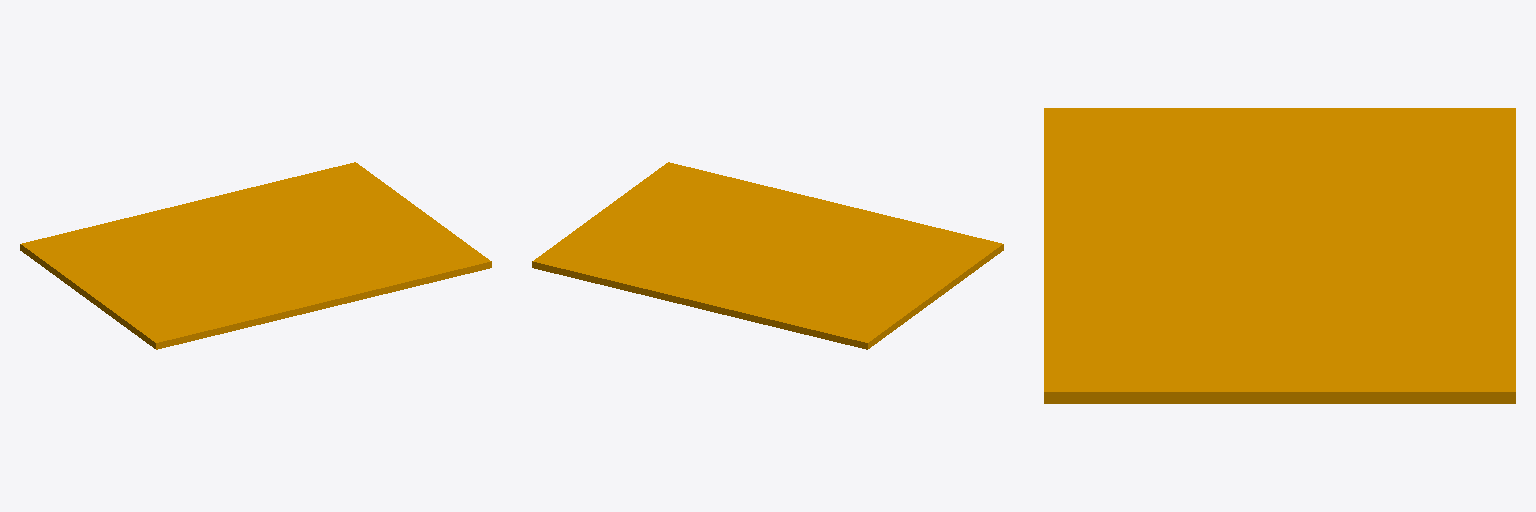
robot.urdf — amr:
<?xml version="1.0"?>
<robot name="amr">
    <link name="base_link">
        <visual>
            <geometry>
                <box size="0.837 0.587 0.016"/>
            </geometry>
            <origin xyz="0 0 0"/>
        </visual>
    </link>

    <link name="base_footprint"/>
    <link name="scan1"/>
    <link name="scan2"/>

    <joint name="base_joint" type="fixed">
        <parent link="base_link"/>
        <child link="base_footprint"/>
        <origin xyz="0 0 0" rpy="0 0 0"/>
    </joint>

    <joint name="scan1" type="fixed">
        <parent link="base_link"/>
        <child link="scan1"/>
        <origin xyz="0.350 0.225 0.0505" rpy="0.0 0.0 0.785398"/>
    </joint>

    <joint name="scan2" type="fixed">
        <parent link="base_link"/>
        <child link="scan2"/>
        <origin xyz="-0.350 -0.225 0.0505" rpy="0.0 0.0 3.92699"/>
    </joint>
</robot>

--- Facts derived from the render (not from the file) ---
3 views of the same robot in one strip: view 1: azimuth 30°, elevation 25°; view 2: azimuth 150°, elevation 25°; view 3: azimuth 270°, elevation 25° (orthographic).
Robot: amr — 4 links, 3 joints (3 fixed); root link base_link; default pose: all joints at 0.
Links seen in each view (by area): view 1: base_link; view 2: base_link; view 3: base_link.
Boxes of the visible links, x1=… form: base_link: x1=20, y1=162, x2=491, y2=349; base_link: x1=532, y1=162, x2=1003, y2=349; base_link: x1=1044, y1=108, x2=1515, y2=403.
Bounding box of the posed robot: 0.837 × 0.587 × 0.016 m (x, y, z).
Geometry: primitives only (box / cylinder / sphere), no mesh files.